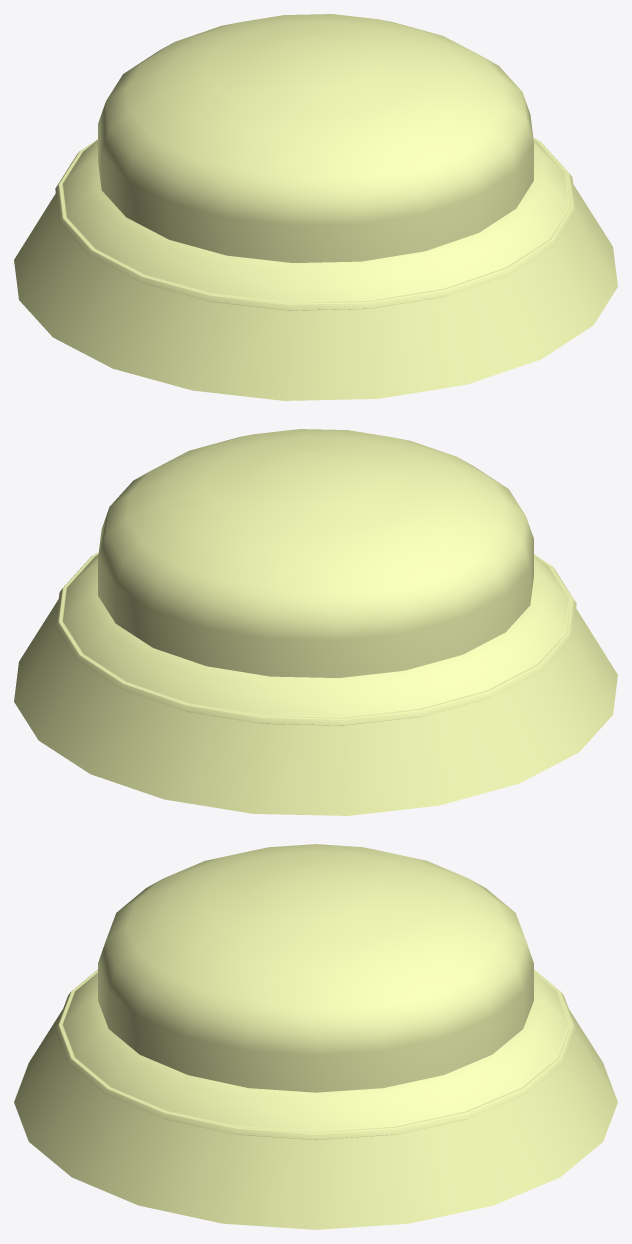
Rendered from Button_V2.fbx.
The picture shows the model from 3 angles, top to bottom: view 1: azimuth 30°, elevation 25°; view 2: azimuth 150°, elevation 25°; view 3: azimuth 270°, elevation 25°; orthographic projection.
Visible parts, largest first — view 1: button2_top, button2_base; view 2: button2_top, button2_base; view 3: button2_top, button2_base.
Boxes of the visible parts, x1,y1,x2,y2 form: button2_top: (98,14,533,262); button2_base: (14,137,617,400); button2_top: (98,429,533,677); button2_base: (14,552,617,815); button2_top: (98,844,533,1092); button2_base: (14,969,617,1229).
Bounding box in the file's own units: 0.25 × 0.0982 × 0.25.
